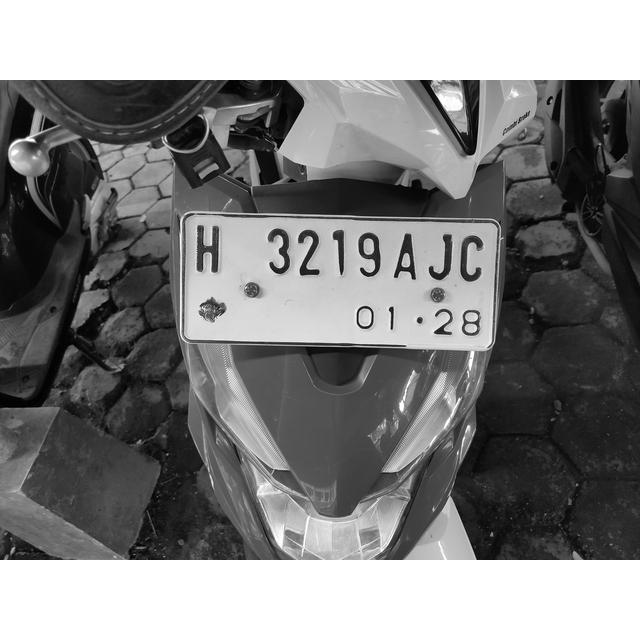license: (192, 219, 490, 343)
